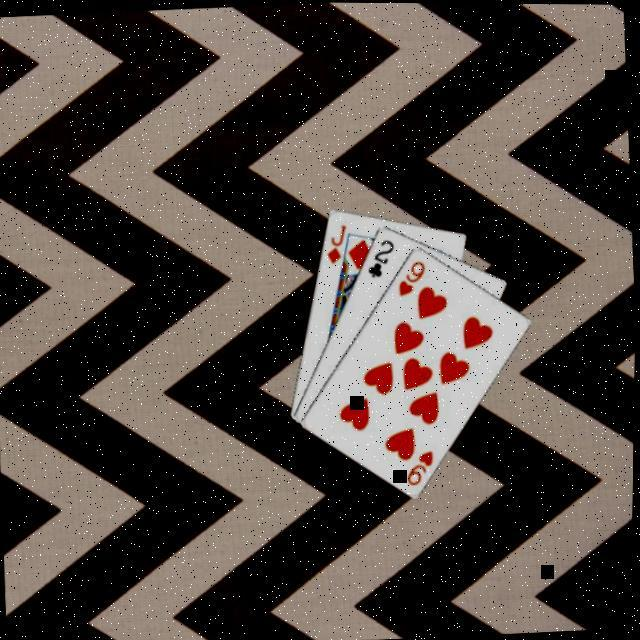2C: (365, 232, 401, 278)
9H: (396, 254, 432, 296), (405, 444, 440, 486)
JD: (324, 218, 354, 263)
